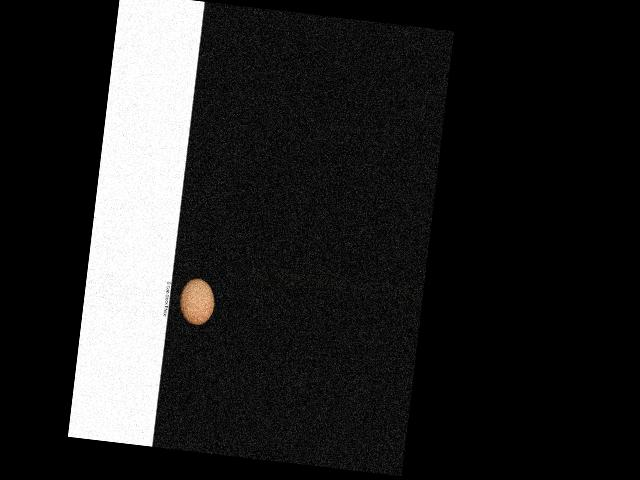egg: (176, 276, 216, 326)
